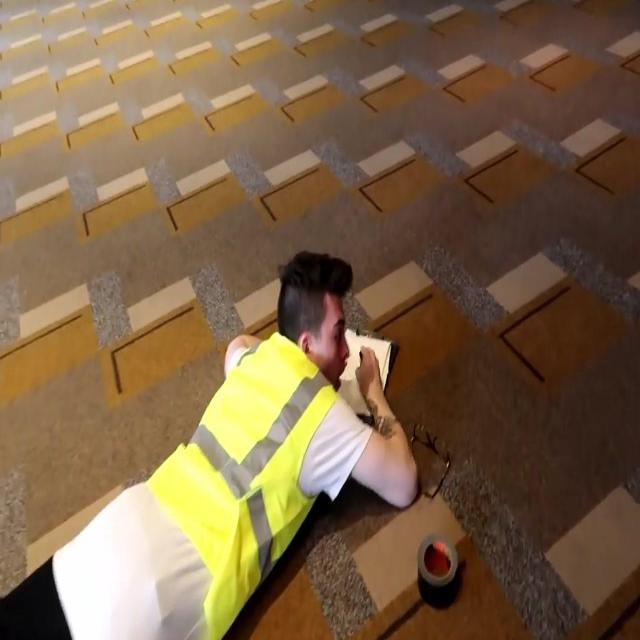con_chaleco: (144, 337, 340, 639)
